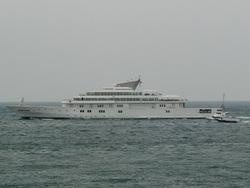otherboat: (208, 105, 239, 122)
yacht: (3, 76, 226, 120)
